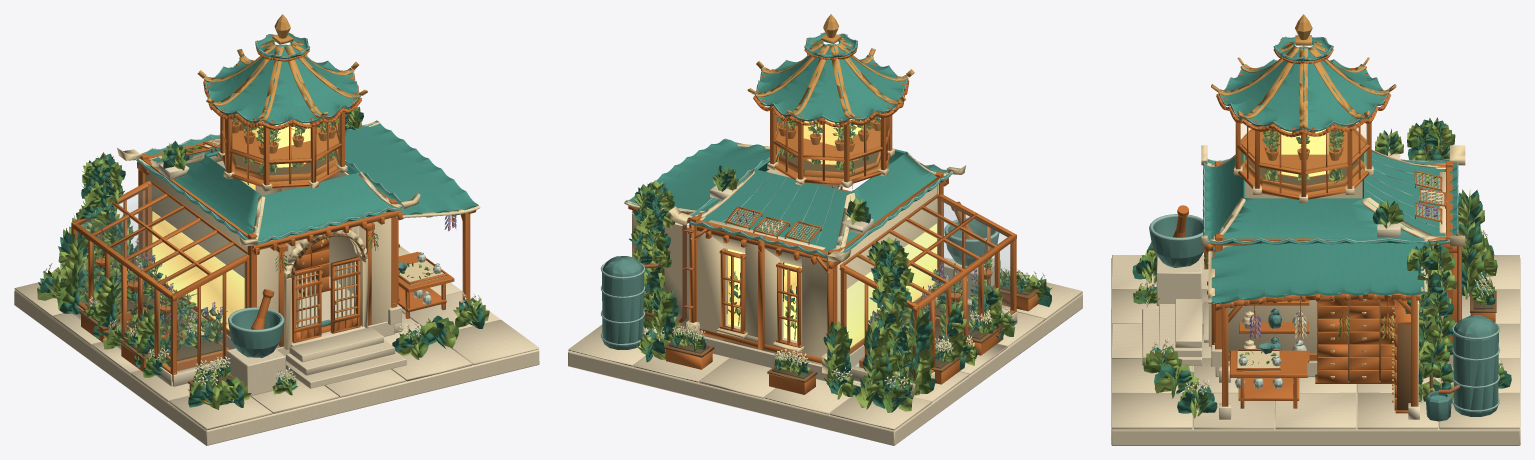
The model's file is herb-lod1-f5bebe913d06.glb.
The picture shows the model from 3 angles, left to right: view 1: azimuth 30°, elevation 25°; view 2: azimuth 150°, elevation 25°; view 3: azimuth 270°, elevation 25°; orthographic projection. The views are drawn at different scales.
Visible parts, largest first — view 1: RFbatch_0.030, RFbatch_6.030, RFbatch_17.030, RFbatch_2.030, RFbatch_56.030, RFbatch_46.030, RFbatch_55.030, RFbatch_83.020, RFbatch_99.017, RFbatch_8.030, RFbatch_81.020, RFbatch_18.030 (+4 smaller); view 2: RFbatch_6.030, RFbatch_17.030, RFbatch_0.030, RFbatch_2.030, RFbatch_46.030, RFbatch_56.030, RFbatch_55.030, RFbatch_81.020, RFbatch_99.017, RFbatch_8.030, RFbatch_83.020, RFbatch_22.030 (+5 smaller); view 3: RFbatch_0.030, RFbatch_17.030, RFbatch_6.030, RFbatch_81.020, RFbatch_55.030, RFbatch_56.030, RFbatch_46.030, RFbatch_83.020, RFbatch_8.030, RFbatch_2.030, RFbatch_18.030, RFbatch_29.030 (+5 smaller).
Boxes of the visible parts, x1,y1,x2,y2 form: RFbatch_0.030: (14, 163, 539, 445); RFbatch_6.030: (71, 44, 476, 401); RFbatch_17.030: (136, 33, 478, 244); RFbatch_2.030: (145, 144, 391, 348); RFbatch_56.030: (38, 108, 484, 407); RFbatch_46.030: (43, 106, 478, 405); RFbatch_55.030: (37, 107, 489, 409); RFbatch_83.020: (117, 120, 480, 349); RFbatch_99.017: (152, 120, 310, 337); RFbatch_8.030: (145, 14, 395, 308); RFbatch_81.020: (228, 262, 407, 357); RFbatch_18.030: (136, 32, 402, 332); RFbatch_6.030: (628, 44, 1038, 394); RFbatch_17.030: (626, 33, 951, 257); RFbatch_0.030: (568, 185, 1082, 445); RFbatch_2.030: (632, 169, 938, 364); RFbatch_46.030: (631, 114, 1046, 412); RFbatch_56.030: (629, 111, 1051, 412); RFbatch_55.030: (633, 112, 1052, 411); RFbatch_81.020: (602, 220, 999, 349); RFbatch_99.017: (728, 119, 937, 354); RFbatch_8.030: (747, 14, 914, 118); RFbatch_83.020: (624, 138, 966, 373); RFbatch_22.030: (942, 202, 1010, 309); RFbatch_0.030: (1111, 151, 1520, 445); RFbatch_17.030: (1202, 37, 1458, 304); RFbatch_6.030: (1173, 48, 1495, 413); RFbatch_81.020: (1149, 216, 1498, 421); RFbatch_55.030: (1139, 117, 1495, 418); RFbatch_56.030: (1132, 119, 1511, 413); RFbatch_46.030: (1133, 118, 1506, 416); RFbatch_83.020: (1201, 145, 1465, 402); RFbatch_8.030: (1207, 14, 1396, 402); RFbatch_2.030: (1223, 167, 1445, 406); RFbatch_18.030: (1149, 37, 1499, 411); RFbatch_29.030: (1204, 124, 1496, 410).
Bounding box in the file's own units: 10 × 9.33 × 10.
22 materials, 12 textured.
